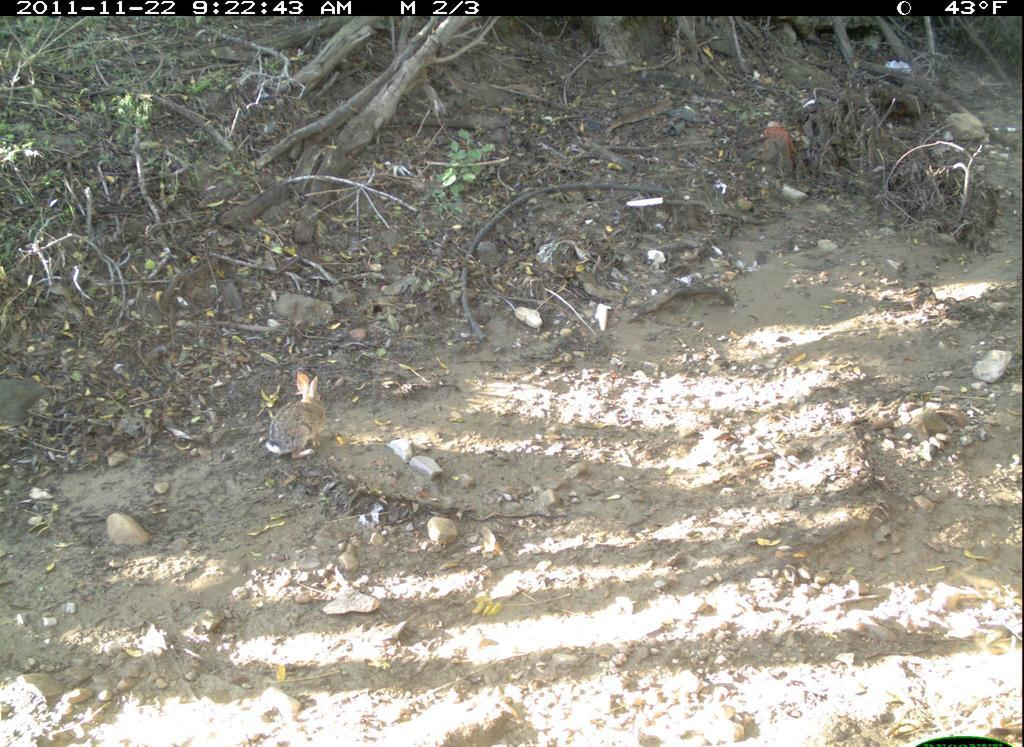rabbit: (265, 369, 333, 465)
